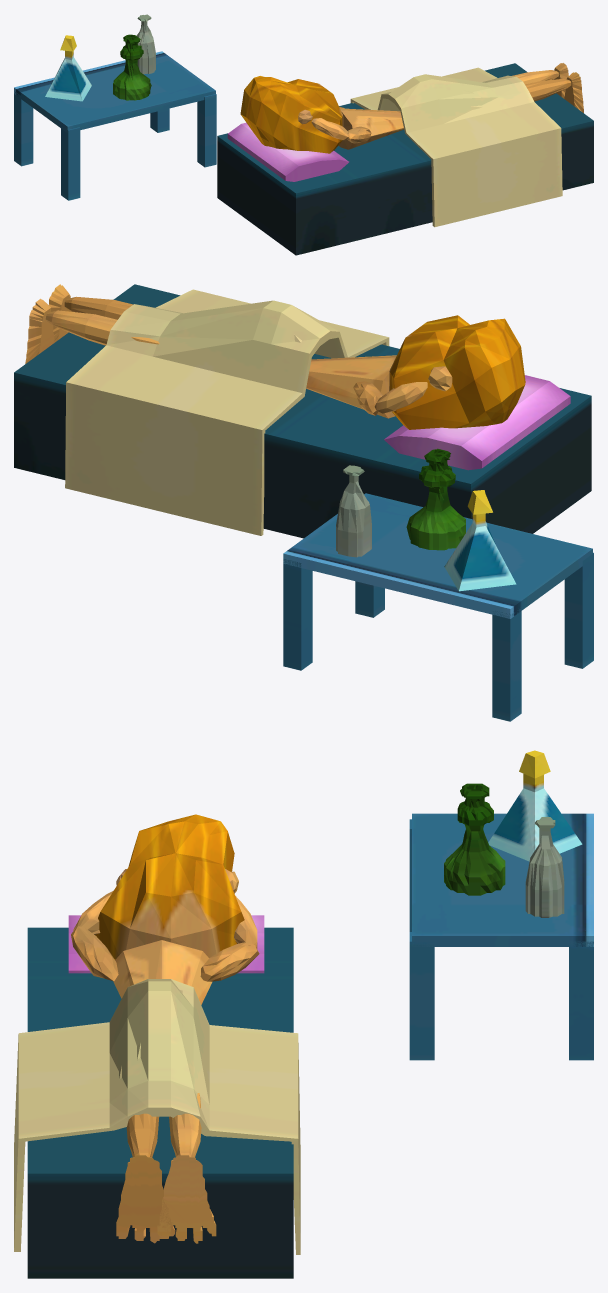
File: Lotion.glb
3 views of the same model, one above another, from view 1: azimuth 30°, elevation 25°; view 2: azimuth 150°, elevation 25°; view 3: azimuth 270°, elevation 25° (orthographic). The views are drawn at different scales.
Visible parts, largest first — view 1: Lotion; view 2: Lotion; view 3: Lotion.
Boxes of the visible parts, x1,y1,x2,y2 form: Lotion: (14, 14, 593, 255); Lotion: (14, 284, 593, 721); Lotion: (14, 750, 593, 1278).
Bounding box in the file's own units: 76.19 × 23.55 × 52.71.
Materials: 1 (1 with a texture image).
